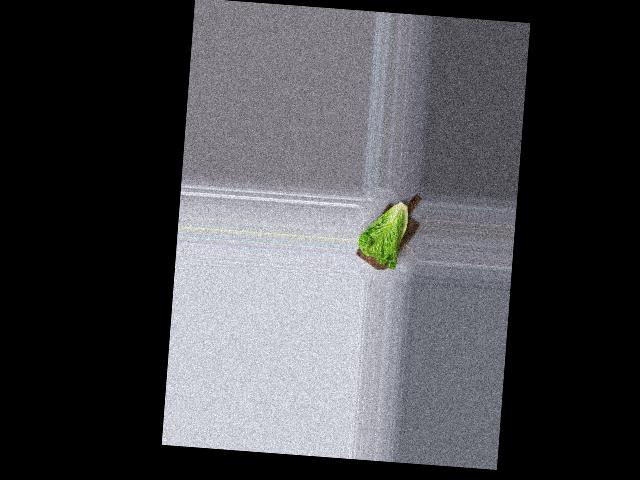lettuce: (356, 196, 416, 270)
